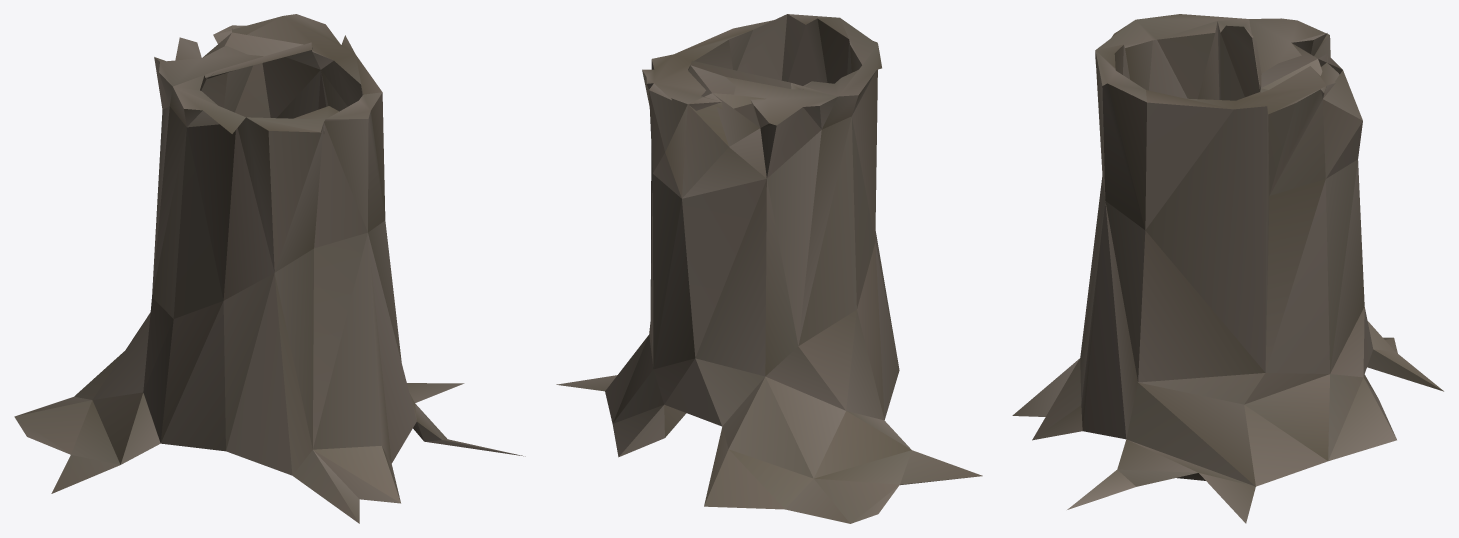
Rendered from alder_stump.glb.
The picture shows the model from 3 angles, left to right: view 1: azimuth 30°, elevation 25°; view 2: azimuth 150°, elevation 25°; view 3: azimuth 270°, elevation 25°; orthographic projection. The views are drawn at different scales.
Parts seen in each view (by area): view 1: Stump; view 2: Stump; view 3: Stump.
Boxes of the visible parts, x1=… form: Stump: x1=14, y1=14, x2=525, y2=523; Stump: x1=556, y1=14, x2=982, y2=523; Stump: x1=1012, y1=14, x2=1443, y2=523.
Bounding box in the file's own units: 0.8653 × 0.73 × 0.7673.
